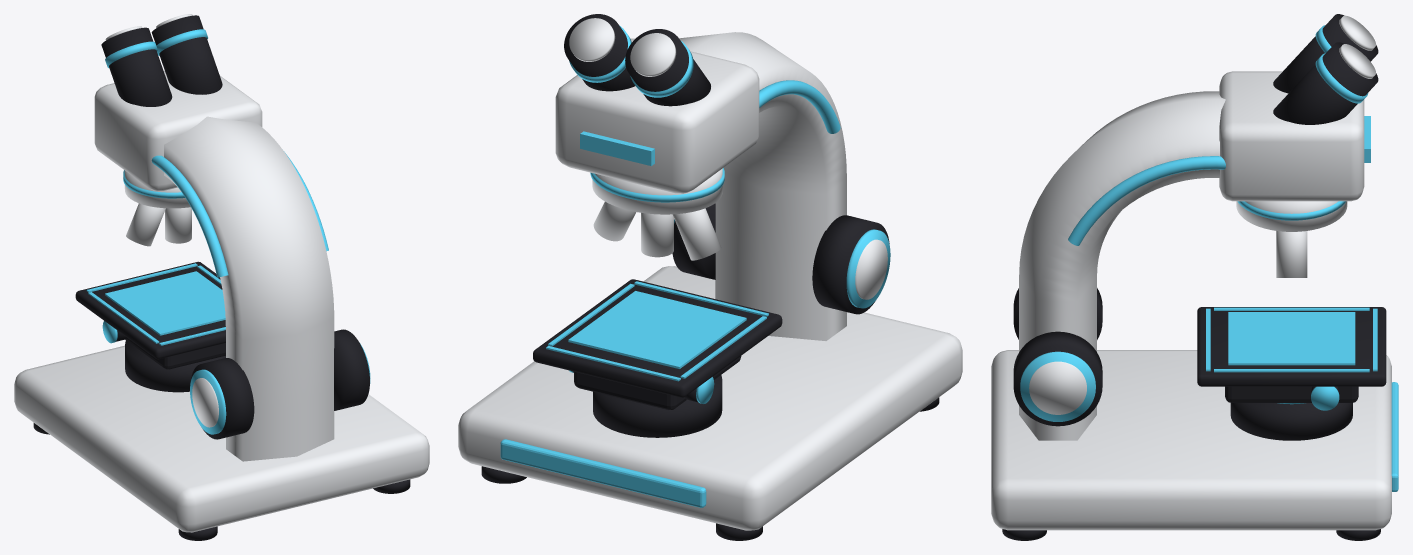
Rendered from microscope_final.fbx.
The picture shows the model from 3 angles, left to right: view 1: azimuth 30°, elevation 25°; view 2: azimuth 150°, elevation 25°; view 3: azimuth 270°, elevation 25°; orthographic projection. The views are drawn at different scales.
Parts seen in each view (by area): view 1: микроскоп, к, полоска; view 2: микроскоп, к, полоска; view 3: микроскоп, к, еще полоска.
Part boxes in pixels (left/top/right/bottom): микроскоп: left=14, top=14, right=429, bottom=540; к: left=164, top=116, right=334, bottom=461; полоска: left=151, top=155, right=228, bottom=277; микроскоп: left=458, top=14, right=962, bottom=540; к: left=679, top=32, right=846, bottom=340; полоска: left=759, top=80, right=840, bottom=133; микроскоп: left=991, top=14, right=1398, bottom=540; к: left=1019, top=91, right=1225, bottom=440; еще полоска: left=1068, top=156, right=1225, bottom=245.
Size of the model in its own units: 0.3193 by 0.47 by 0.3896.
